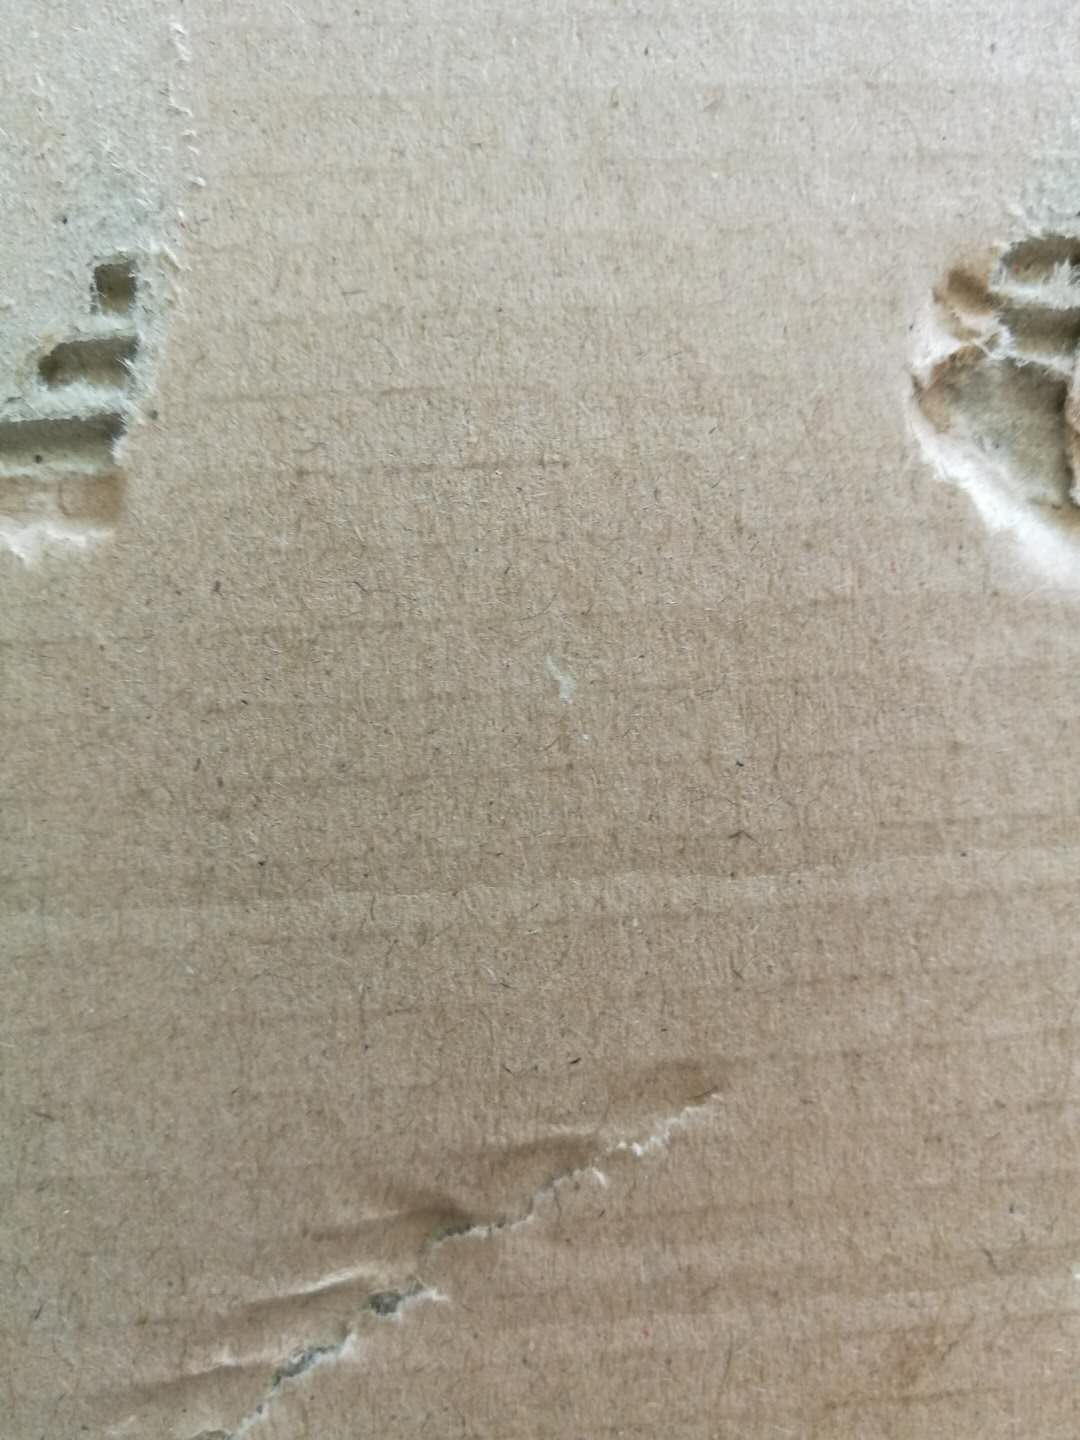defect: (71, 1027, 752, 1440), (3, 2, 239, 624), (869, 73, 1080, 605)
